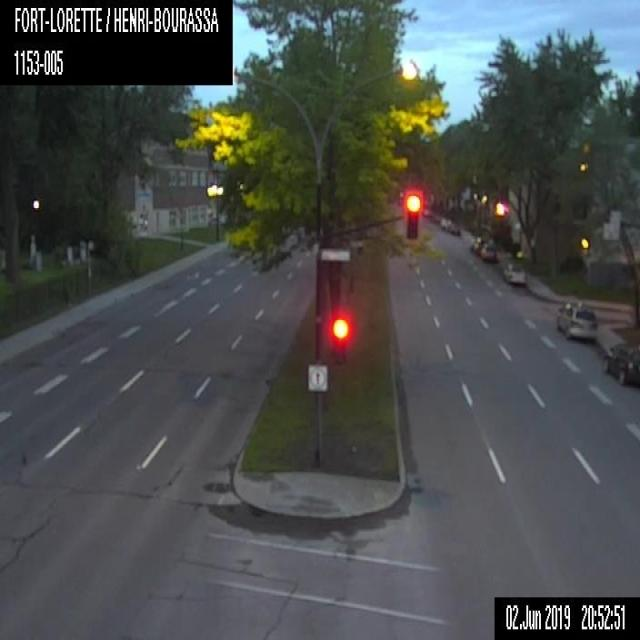vehicle: (599, 338, 639, 386), (555, 302, 596, 342), (499, 259, 525, 285), (472, 234, 488, 254), (480, 242, 496, 262), (441, 217, 452, 231), (450, 222, 460, 235)
